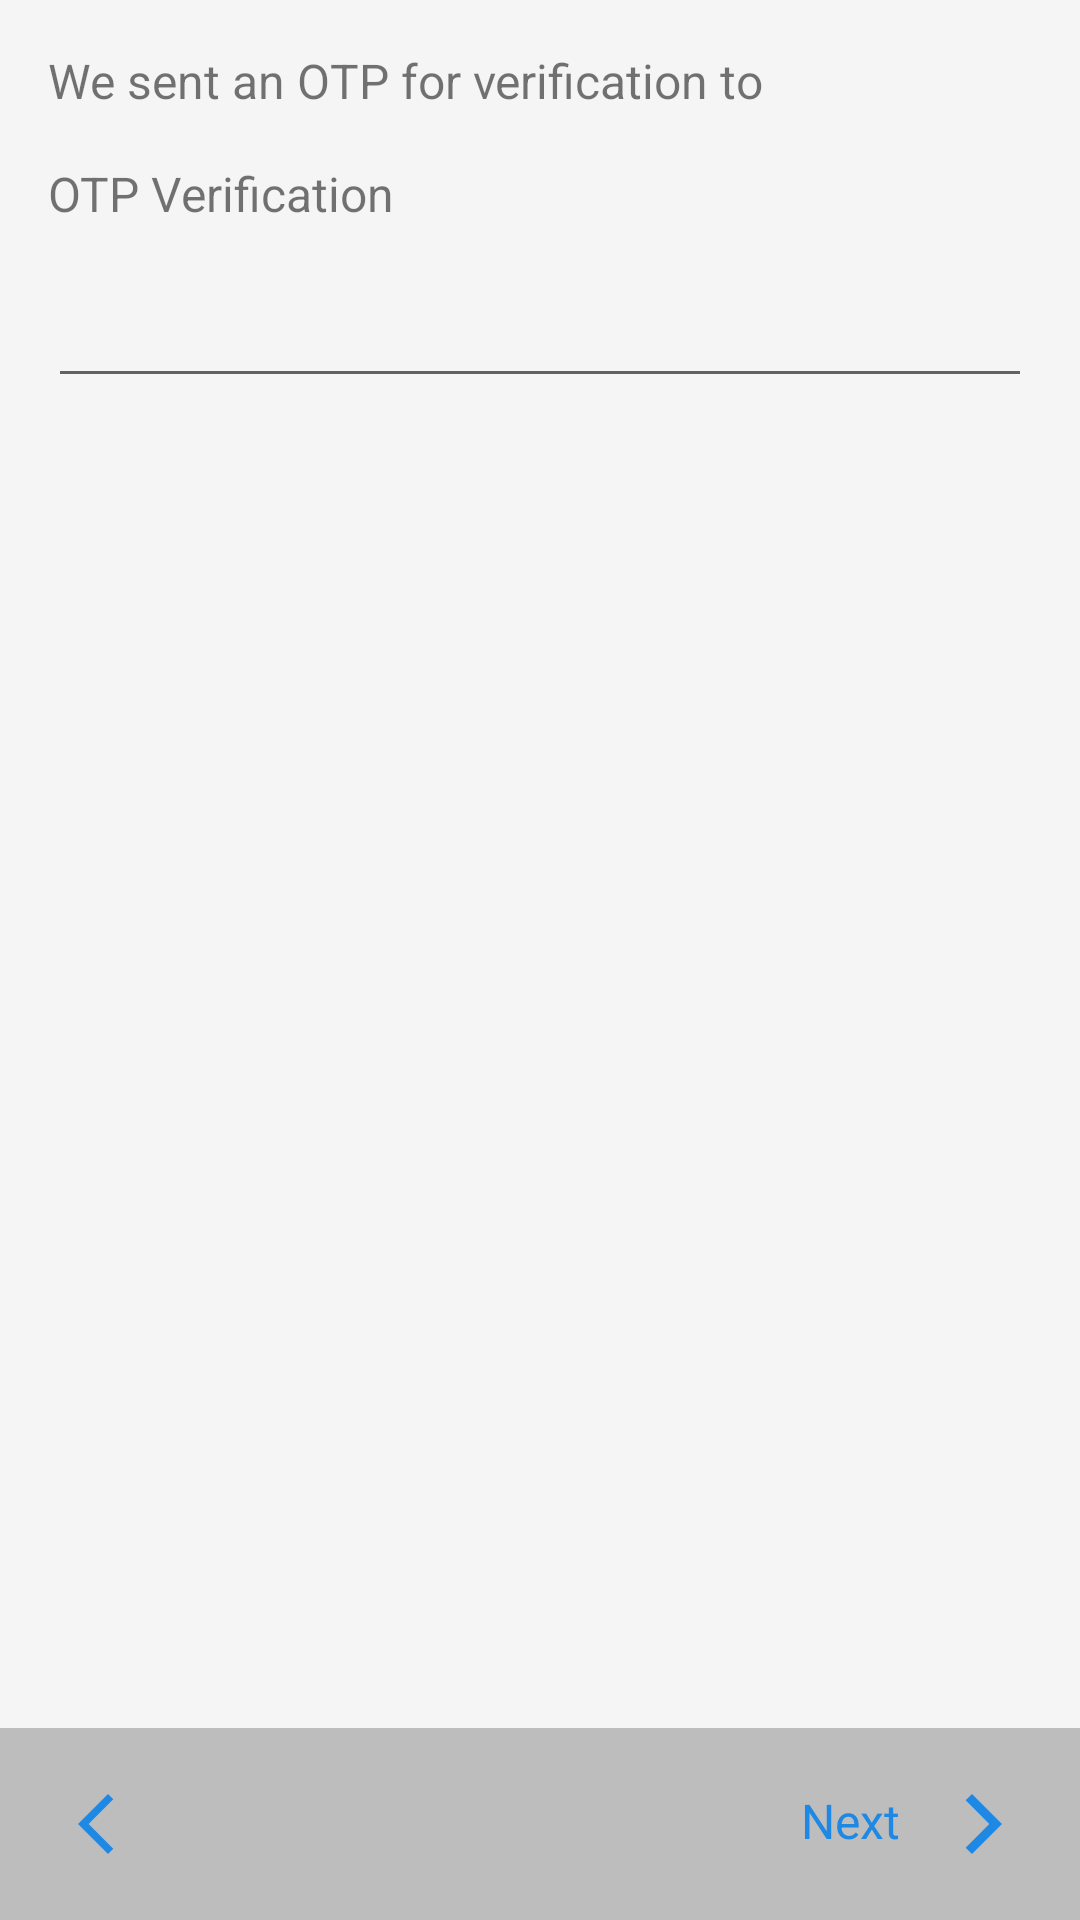

Screen size 1080 x 1920. Icon name, then its center in pixels as (x,y):
arrow back: (95,1824)
